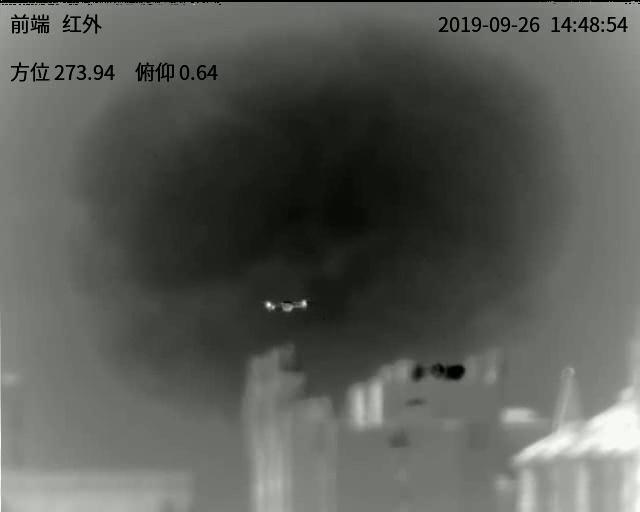DRONE: (262, 298, 309, 313)
